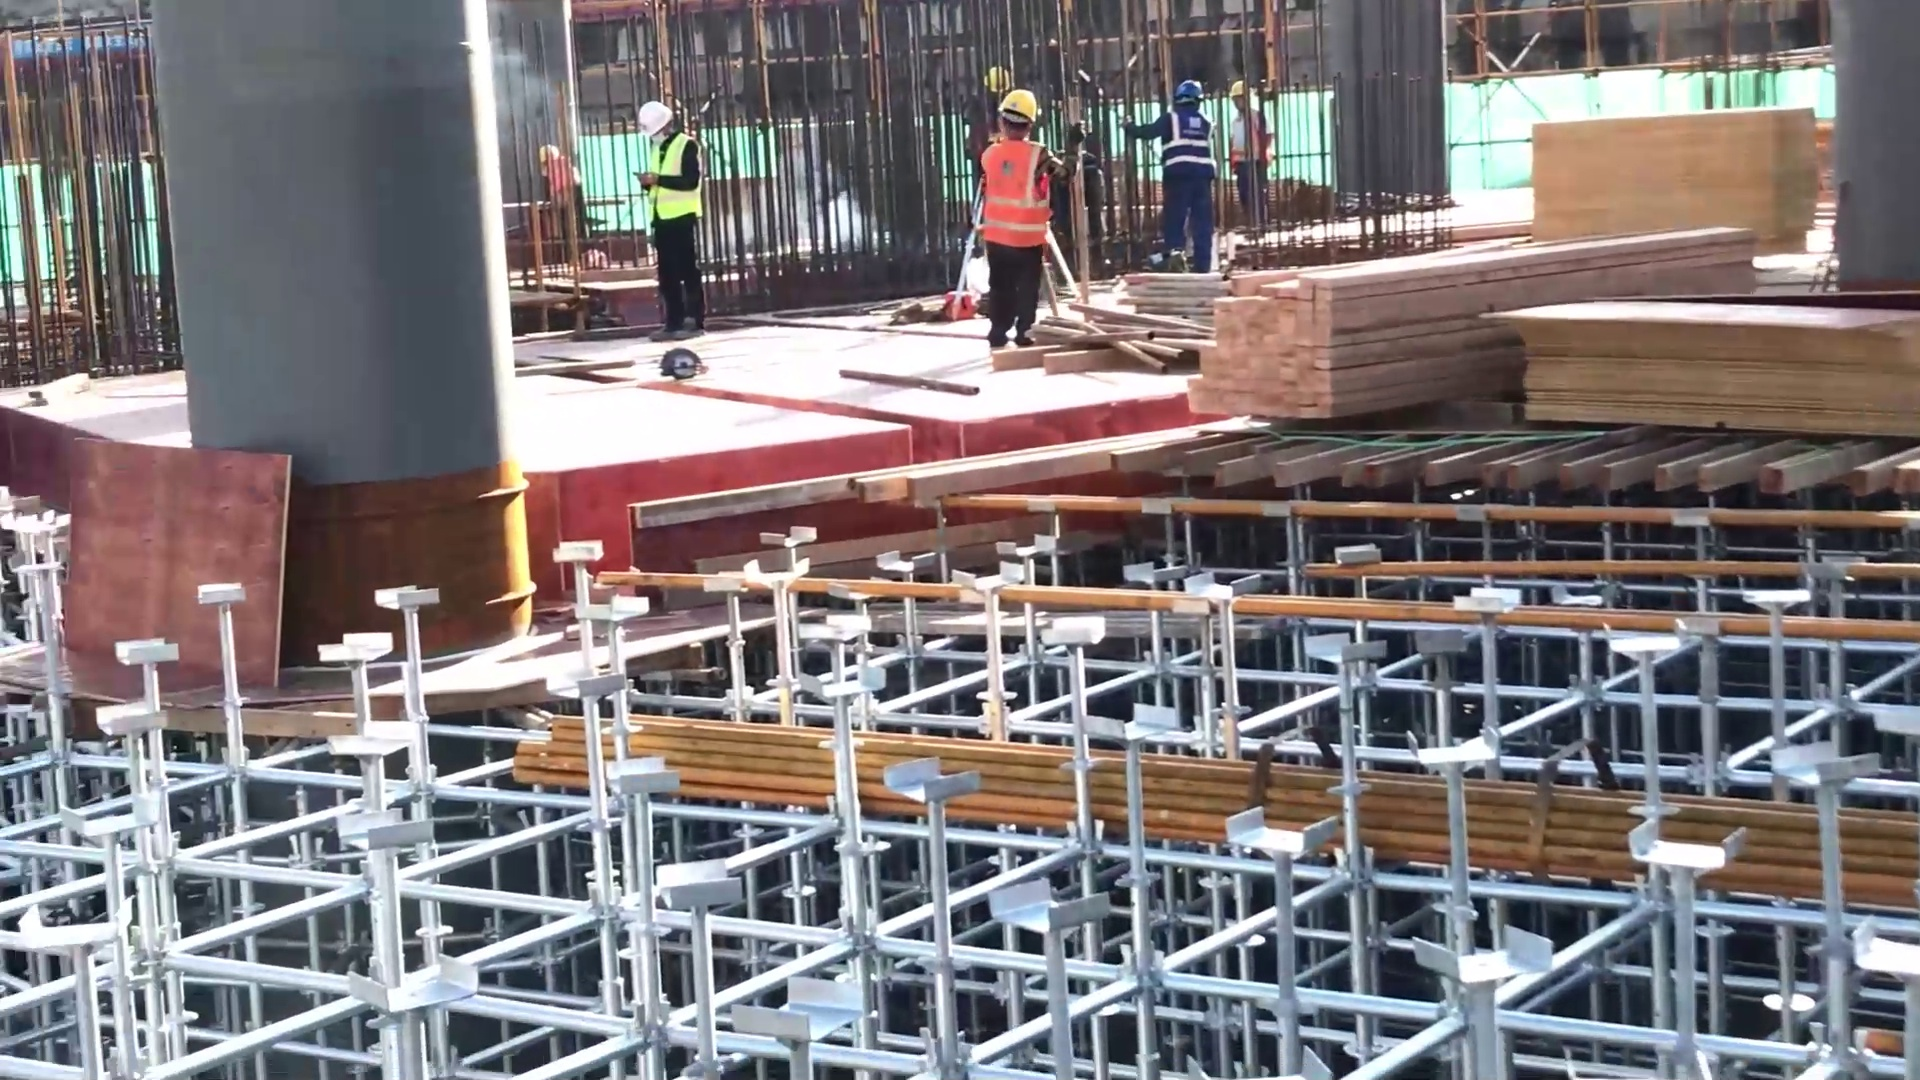helmet: (994, 76, 1050, 129), (625, 91, 671, 133)
vest: (971, 135, 1054, 247), (1153, 103, 1220, 167), (651, 135, 698, 224)
